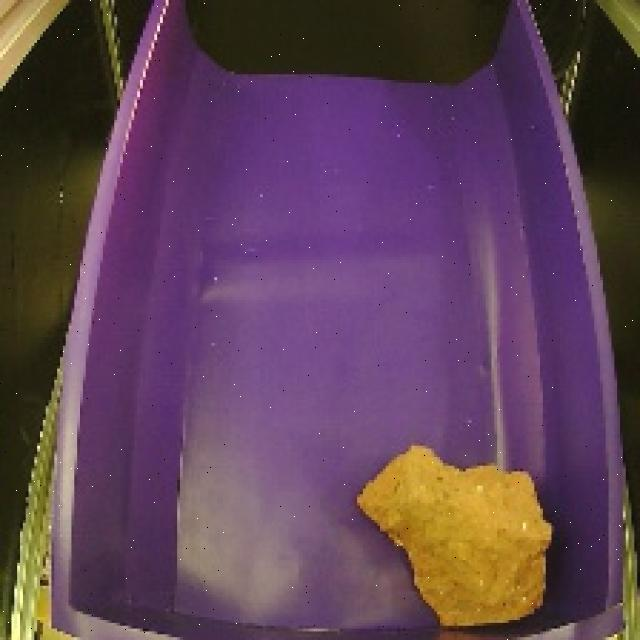brick: (350, 428, 559, 630)
